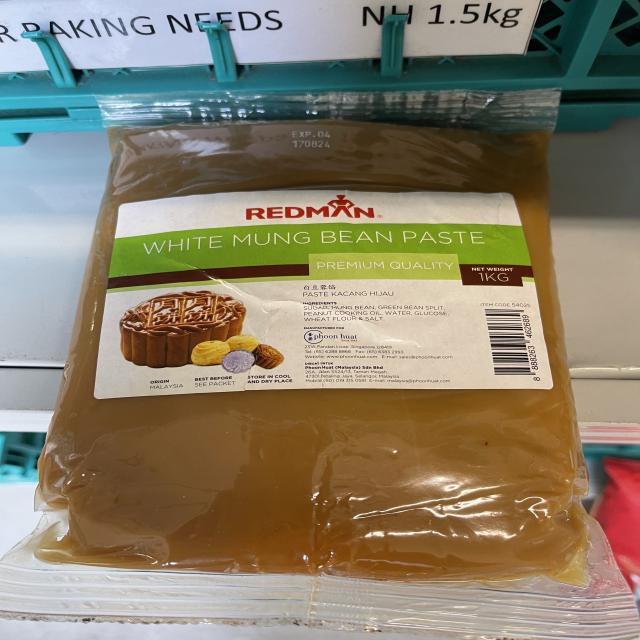object_name: (89, 102, 573, 594)
